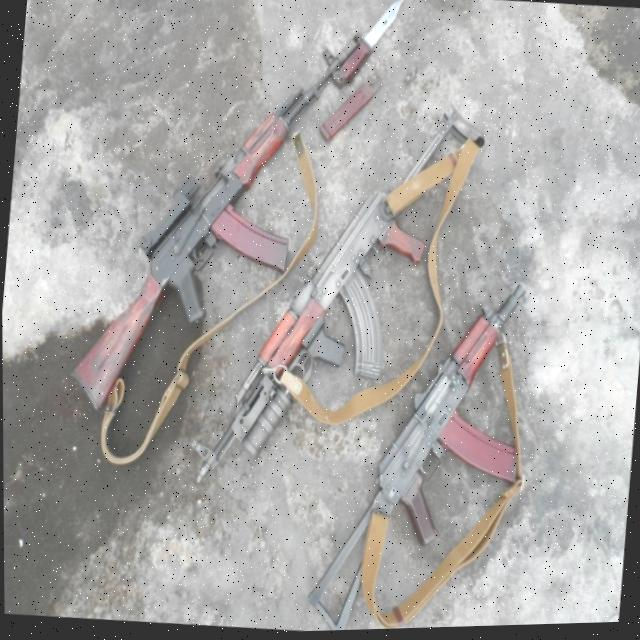firearm: (183, 91, 486, 510), (64, 17, 361, 431), (303, 269, 530, 633)
knife: (317, 0, 412, 91)
